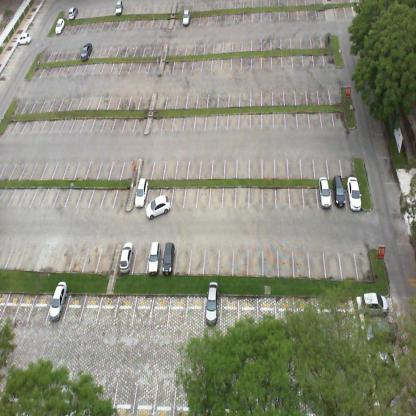car: (360, 288, 388, 319), (364, 322, 398, 345), (48, 282, 66, 324), (204, 278, 219, 326), (369, 352, 399, 376), (146, 192, 169, 221), (346, 175, 361, 212), (118, 240, 134, 274), (317, 174, 332, 210), (382, 392, 404, 416), (146, 239, 160, 276), (331, 174, 346, 208), (134, 176, 149, 209), (162, 242, 176, 276), (80, 42, 93, 63), (53, 16, 65, 36), (14, 32, 31, 45), (181, 7, 191, 25), (114, 0, 123, 18), (68, 7, 78, 21)
